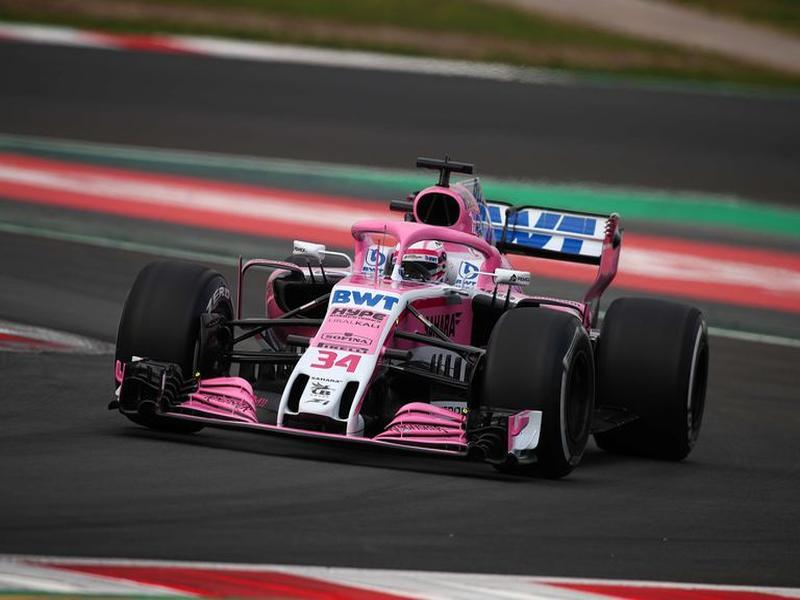f1: (128, 141, 698, 506)
